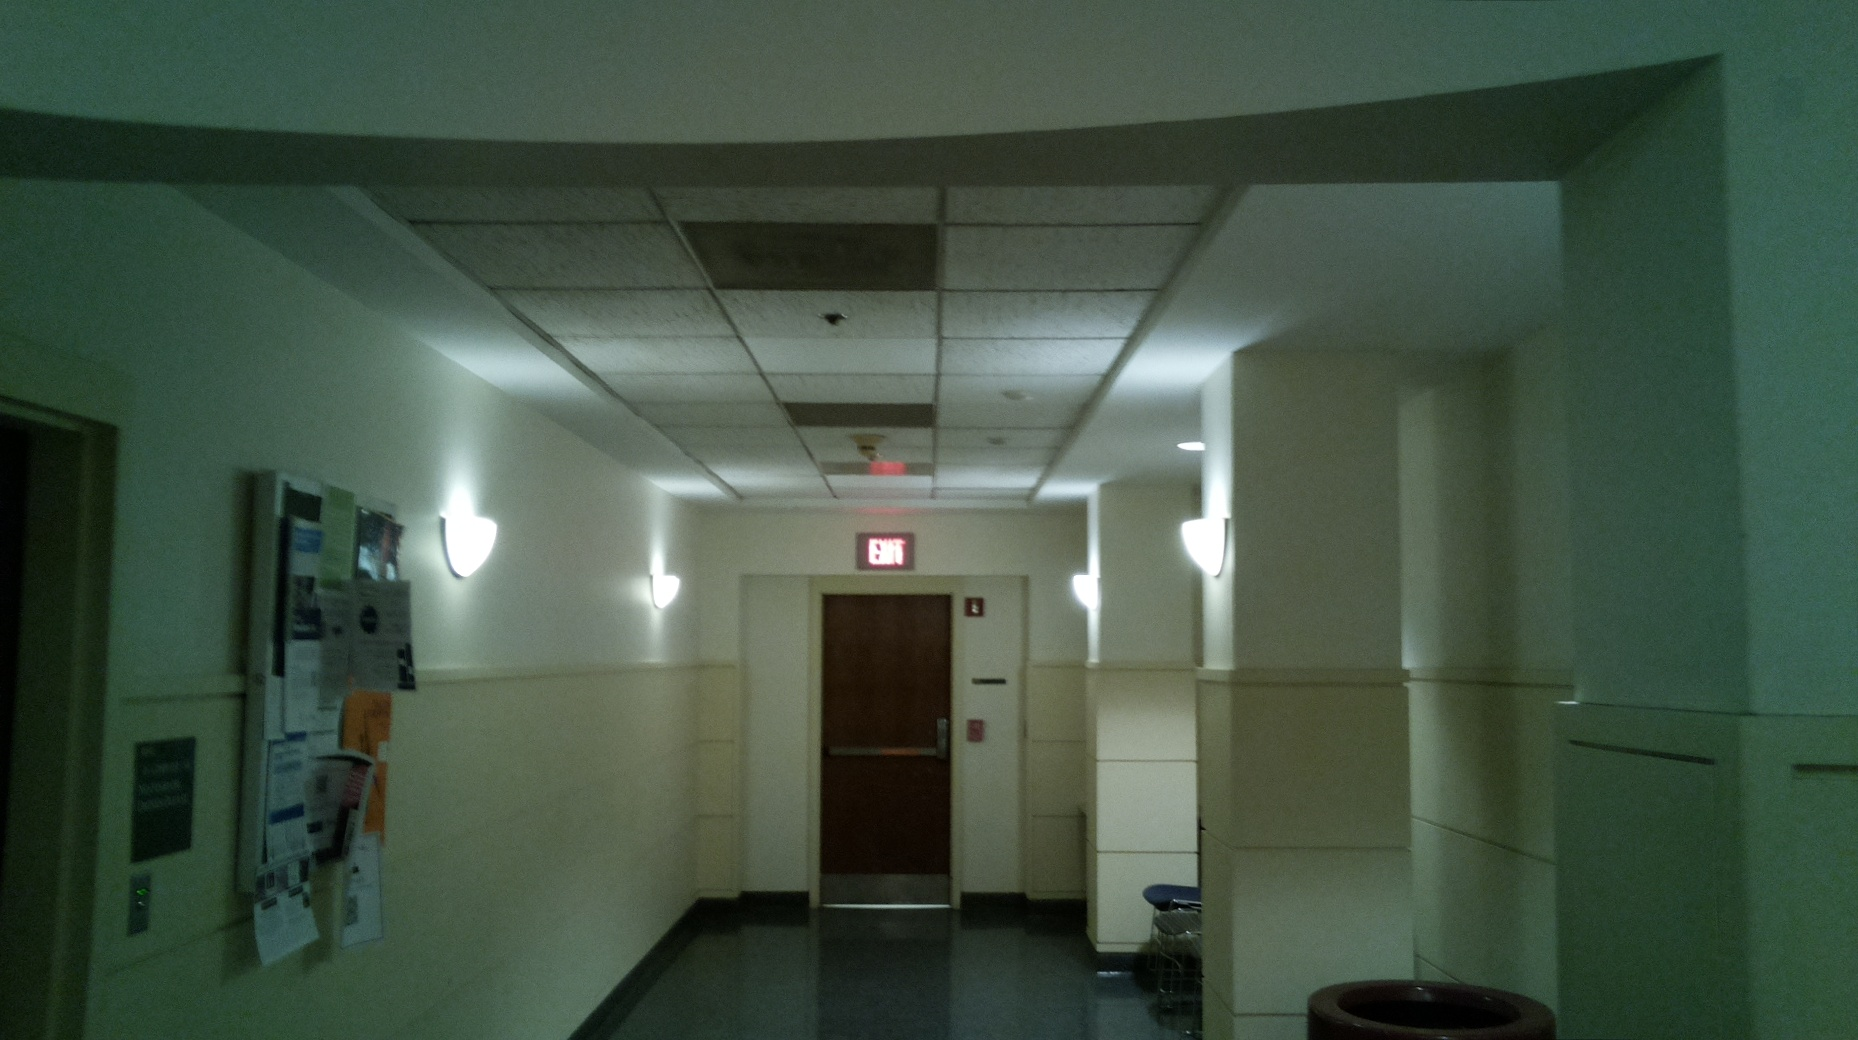exit sign: (854, 528, 918, 574)
